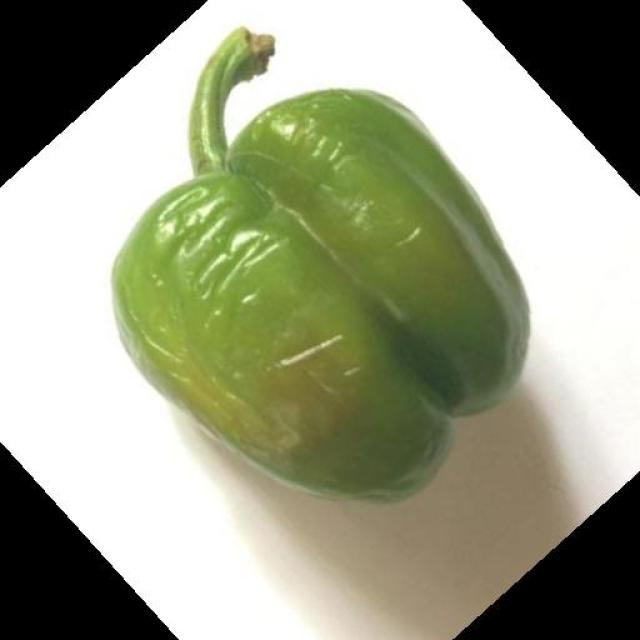Stale_Capsicum: (91, 124, 537, 466)
